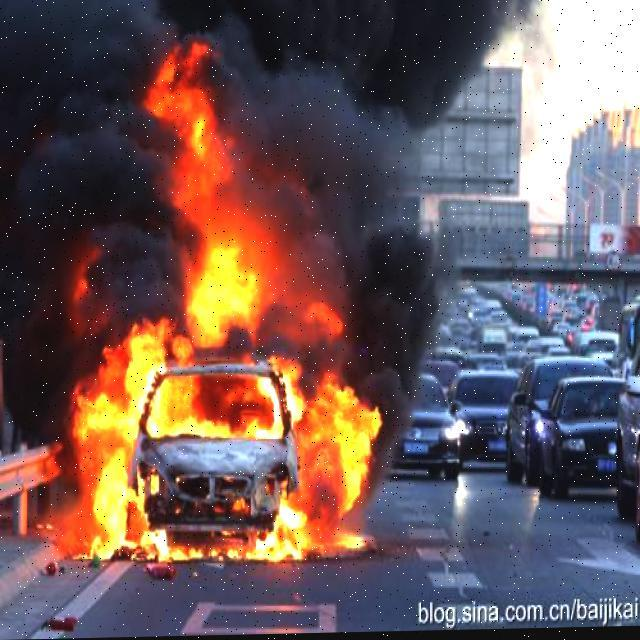Fire: (54, 44, 376, 577)
